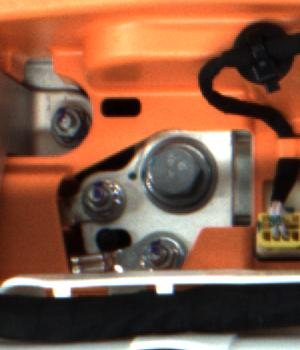nut_b: (139, 133, 221, 220)
screw_s: (86, 179, 130, 221), (48, 102, 91, 141), (141, 236, 178, 271)
